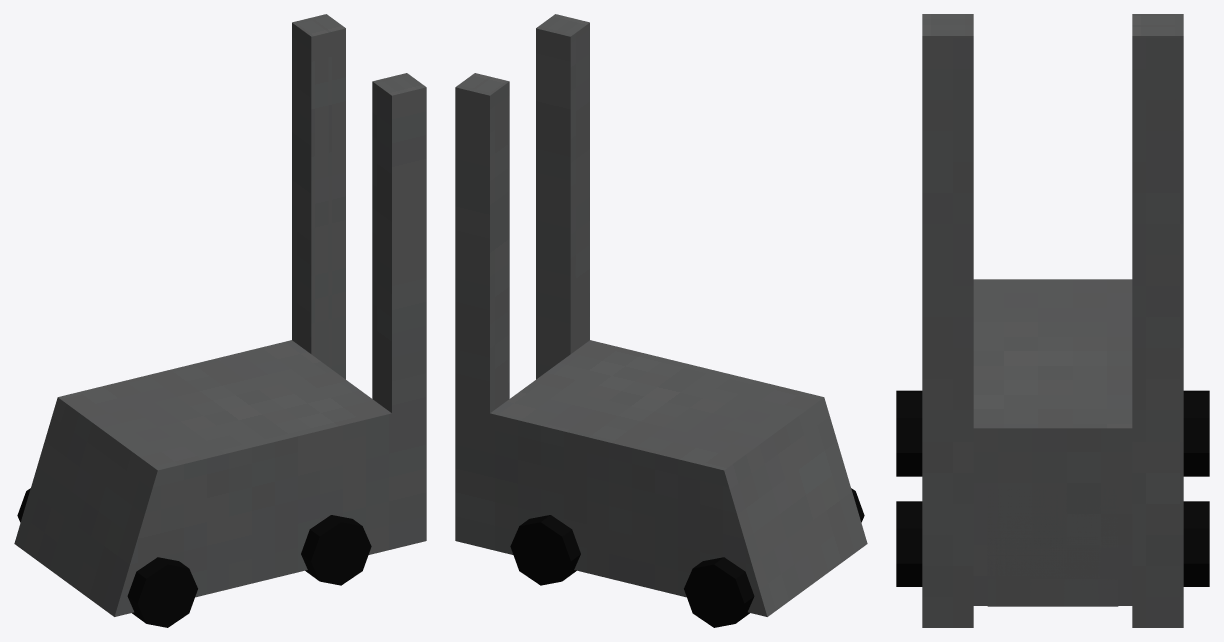
File: forklift.fbx
3 views of the same model, side by side, from view 1: azimuth 30°, elevation 25°; view 2: azimuth 150°, elevation 25°; view 3: azimuth 270°, elevation 25° (orthographic). The views are drawn at different scales.
Visible parts, largest first — view 1: Body, ArmExtension, Wheels; view 2: Body, ArmExtension, Wheels; view 3: ArmExtension, Body, Wheels.
Boxes of the visible parts, box(x1,y1,x2,y2) form: Body: box(14, 18, 409, 616); ArmExtension: box(309, 14, 426, 544); Wheels: box(17, 488, 371, 627); Body: box(472, 18, 867, 616); ArmExtension: box(455, 14, 572, 544); Wheels: box(510, 488, 864, 627); ArmExtension: box(922, 25, 1183, 627); Body: box(922, 14, 1183, 606); Wheels: box(896, 390, 1209, 586).
Bounding box in the file's own units: 720 × 1031 × 480.
